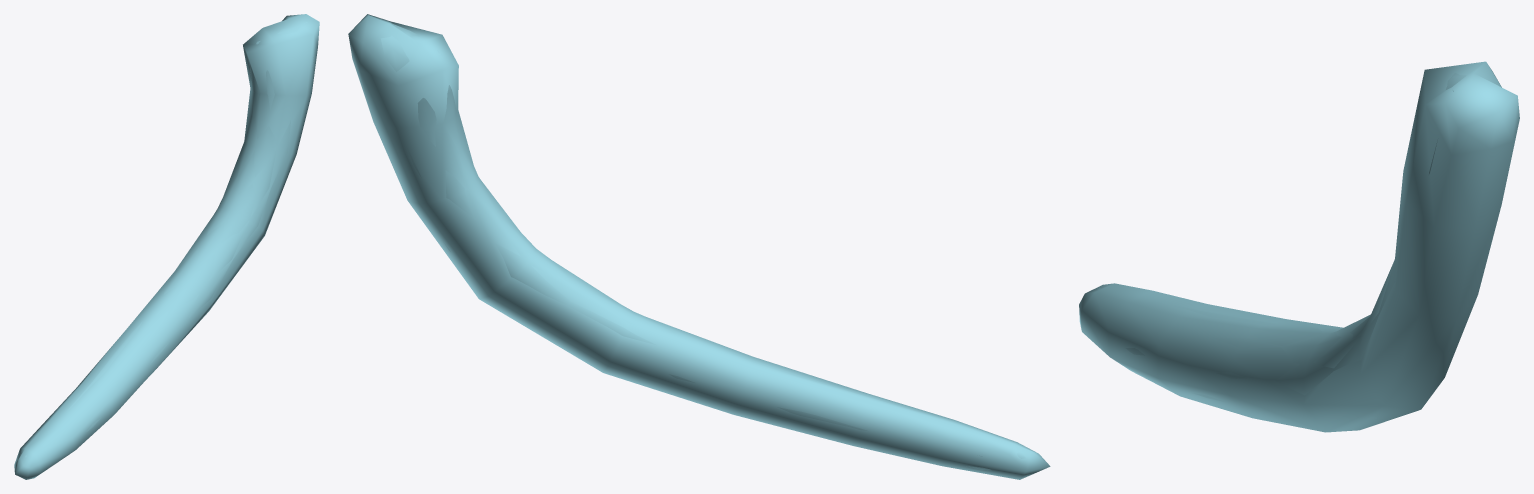
3 views of the same model, side by side, from view 1: azimuth 30°, elevation 25°; view 2: azimuth 150°, elevation 25°; view 3: azimuth 270°, elevation 25° (orthographic). The views are drawn at different scales.
Visible parts, largest first — view 1: CC L4 low, CC L4; view 2: CC L4 low, CC L4; view 3: CC L4 low, CC L4.
Boxes of the visible parts, bbox=[...] form: CC L4 low: bbox=[14, 14, 319, 479]; CC L4: bbox=[19, 22, 313, 457]; CC L4 low: bbox=[348, 14, 1050, 479]; CC L4: bbox=[380, 23, 1026, 470]; CC L4 low: bbox=[1079, 61, 1519, 432]; CC L4: bbox=[1098, 73, 1500, 420].
Bounding box in the file's own units: 2.06 × 1.52 × 0.9921.
